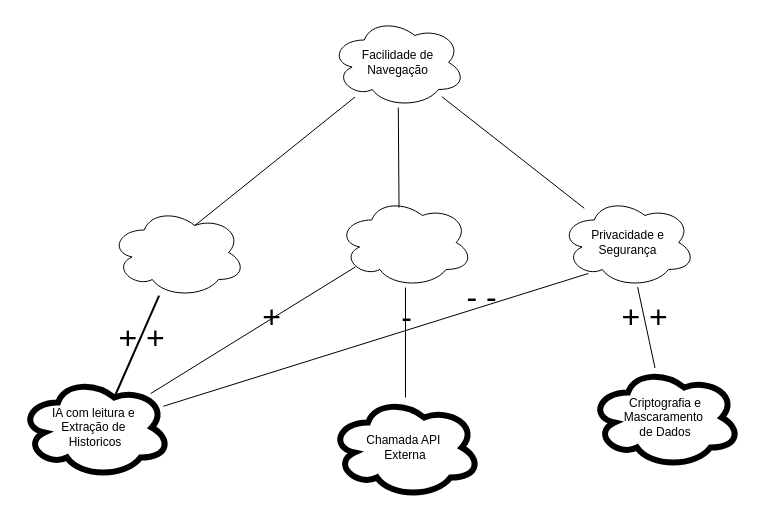
The diagram is 760 pixels wide and 518 high, and some of its shapes have lost their labels. The shapes that lost their labels are listed below. From the top down, each one's centre as x and y in pixels, then its label:
At (x=178, y=252): "Localização de Dados".
At (x=405, y=242): "Velocidade de Acesso".
